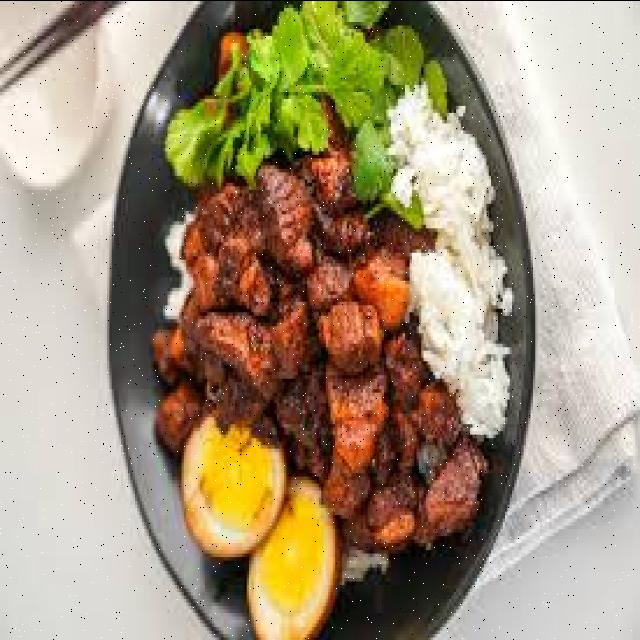Egg: (182, 420, 337, 640)
Green veg: (165, 3, 445, 227)
Pork: (154, 105, 484, 546)
Rice: (389, 87, 512, 437)
